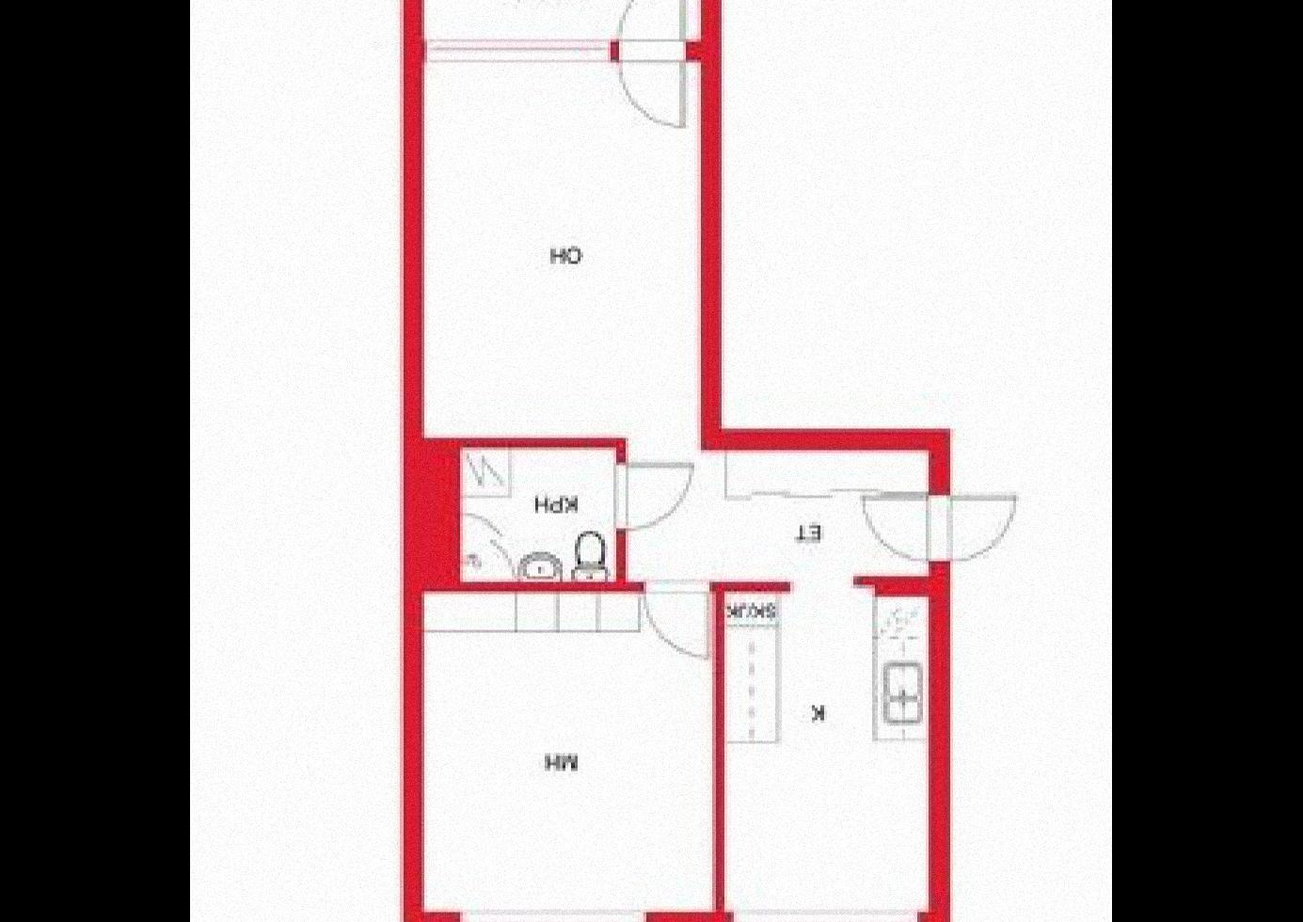door: (860, 477, 1024, 565), (618, 0, 696, 129), (613, 456, 701, 534), (644, 580, 716, 660)
window: (428, 37, 616, 58), (731, 908, 916, 922), (459, 908, 643, 922)
zone: (422, 58, 925, 908), (424, 589, 709, 909), (460, 446, 617, 581)
